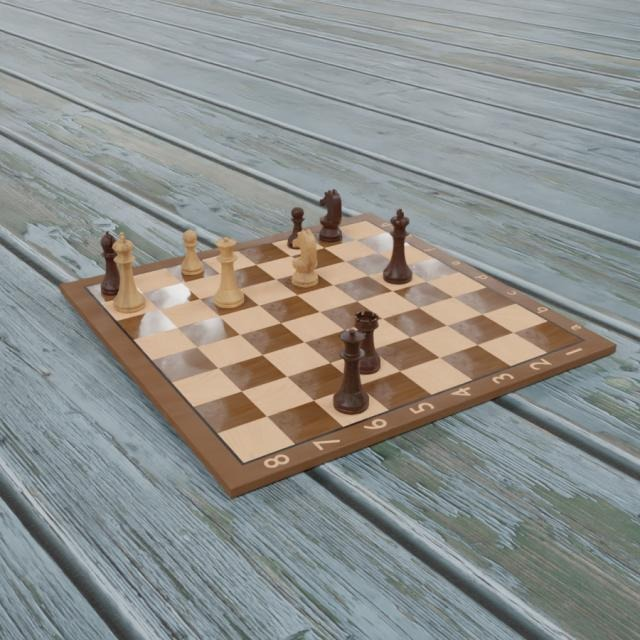black-bishop: (98, 229, 121, 297)
black-king: (381, 206, 414, 288)
black-knight: (319, 187, 343, 245)
black-pawn: (286, 205, 310, 251)
black-queen: (330, 325, 373, 419)
black-rook: (350, 310, 382, 374)
white-king: (112, 231, 147, 317)
white-knight: (292, 227, 320, 288)
white-pawn: (178, 227, 206, 281)
white-queen: (211, 235, 245, 311)
